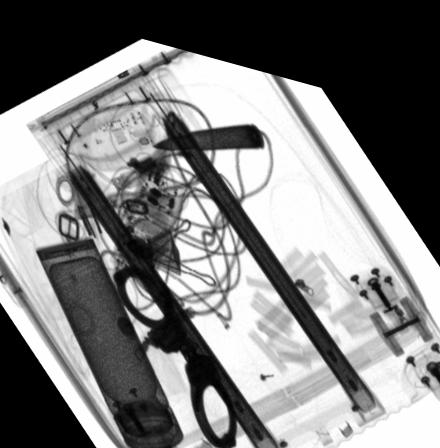Bullet: (152, 108, 264, 142)
HandCuffs: (113, 257, 237, 437)
